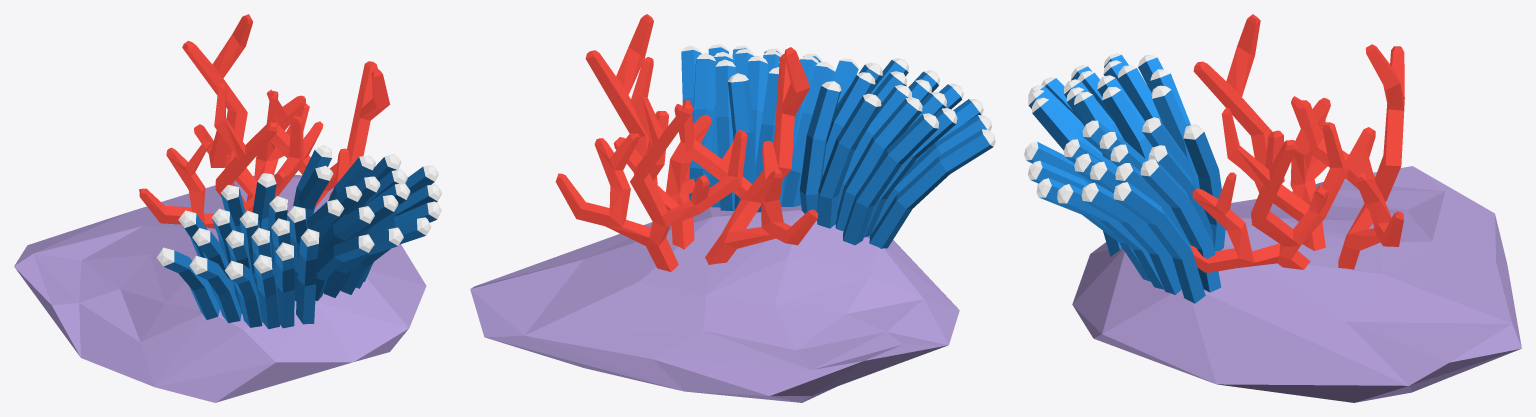
Rendered from MiniCoral-1.glb.
3 renders of one model, left to right at view 1: azimuth 30°, elevation 25°; view 2: azimuth 150°, elevation 25°; view 3: azimuth 270°, elevation 25°, orthographic. The views are drawn at different scales.
Parts seen in each view (by area): view 1: Coralls_019; view 2: Coralls_019; view 3: Coralls_019.
Boxes of the visible parts, left/top/right/bottom form: Coralls_019: left=14, top=14, right=441, bottom=402; Coralls_019: left=470, top=14, right=995, bottom=402; Coralls_019: left=1024, top=14, right=1521, bottom=402.
Size of the model in its own units: 1.96 by 1.47 by 2.06.
2 materials, 2 textured.
